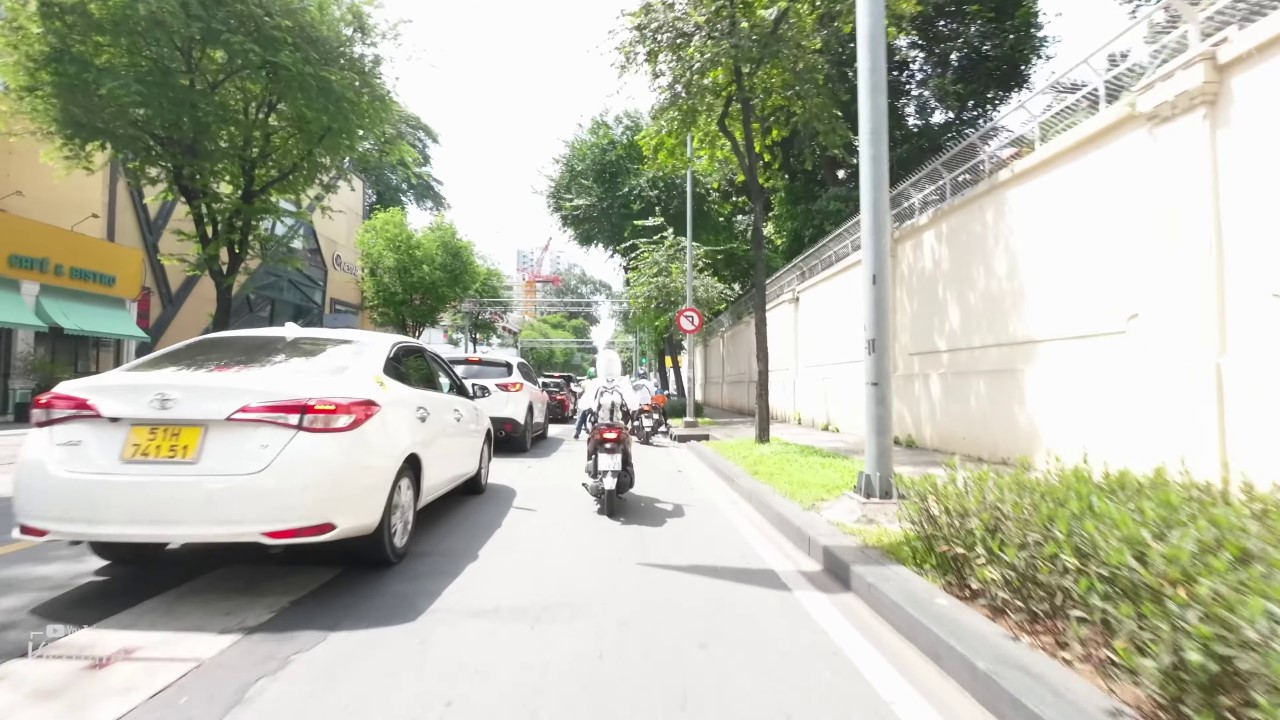cam_re_trai: (676, 308, 703, 334)
